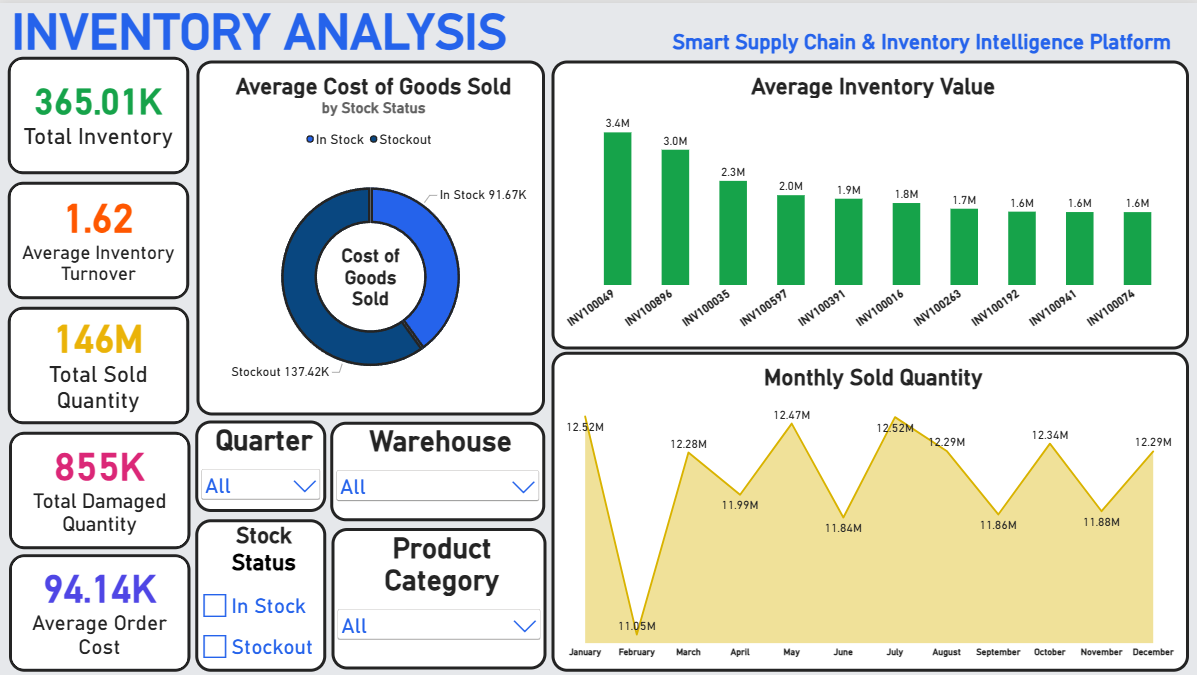

The page's visual inventory and layout, read from the dashboard file:
{"tool":"powerbi","page":{"name":"Inventory Analysis","canvas":[1920,1080],"ordinal":3},"visuals":[{"type":"textbox","box":[0,0,1920.1,92.3],"z":0},{"type":"cardVisual","fields":{"Data":["CountNonNull(Inventory.Inventory_ID)"]},"box":[14,85,290,188],"z":1000},{"type":"cardVisual","fields":{"Data":["Avg(Inventory.Inventory_Turnover)"]},"box":[14,285,290,188],"z":2000},{"type":"cardVisual","fields":{"Data":["Sum(Inventory.Sold_Qty)"]},"box":[14,485,290,188],"z":3000},{"type":"clusteredColumnChart","title":"Average Inventory Value","fields":{"Category":["Inventory.Inventory_ID"],"Y":["Avg(Inventory.Avg_Inventory)"]},"box":[884,92,1020,462],"z":4000},{"type":"donutChart","title":"Average Cost of Goods Sold","fields":{"Category":["Inventory.Stock_Status"],"Y":["Avg(Inventory.COGS)"]},"box":[316.7,92.3,557.4,568.2],"z":5000},{"type":"slicer","title":"Stock","fields":{"Values":["Inventory.Stock_Status"]},"box":[313.1,825.2,209.9,244.3],"z":6000},{"type":"slicer","title":"Warehouse","fields":{"Values":["Warehouses.Warehouse_ID"]},"box":[530.2,669.6,343.8,159.3],"z":7000},{"type":"cardVisual","fields":{"Data":["Sum(Inventory.Damaged_Qty)"]},"box":[16,685,290,188],"z":8000},{"type":"cardVisual","fields":{"Data":["Avg(Inventory.COGS)"]},"box":[16,882,290,188],"z":9000},{"type":"slicer","title":"Product Category","fields":{"Values":["Products.Category"]},"box":[532,839.7,343.8,226.2],"z":10000},{"type":"lineChart","title":"Monthly Sold Quantity","fields":{"Category":["Inventory.Date.Variation.Date Hierarchy.Month"],"Y":["Sum(Inventory.Sold_Qty)"]},"box":[884,558,1020,512],"z":11000},{"type":"slicer","title":"Quarter","fields":{"Values":["Inventory.Date.Variation.Date Hierarchy.Quarter"]},"box":[313.1,667.8,209.9,146.6],"z":12000}]}

Visuals, with their boxes in screenshot pixels (x1, y1, x2, y2), scaled from the page's 1920x1080 canvas onto the 1197x675 screenshot:
textbox: BBox(0, 0, 1196, 58)
cardVisual - CountNonNull(Inventory.Inventory_ID): BBox(9, 53, 190, 171)
cardVisual - Avg(Inventory.Inventory_Turnover): BBox(9, 178, 190, 296)
cardVisual - Sum(Inventory.Sold_Qty): BBox(9, 303, 190, 421)
"Average Inventory Value" clusteredColumnChart: BBox(551, 58, 1187, 346)
"Average Cost of Goods Sold" donutChart: BBox(197, 58, 545, 413)
"Stock" slicer: BBox(195, 516, 326, 668)
"Warehouse" slicer: BBox(331, 418, 545, 518)
cardVisual - Sum(Inventory.Damaged_Qty): BBox(10, 428, 191, 546)
cardVisual - Avg(Inventory.COGS): BBox(10, 551, 191, 669)
"Product Category" slicer: BBox(332, 525, 546, 666)
"Monthly Sold Quantity" lineChart: BBox(551, 349, 1187, 669)
"Quarter" slicer: BBox(195, 417, 326, 509)
